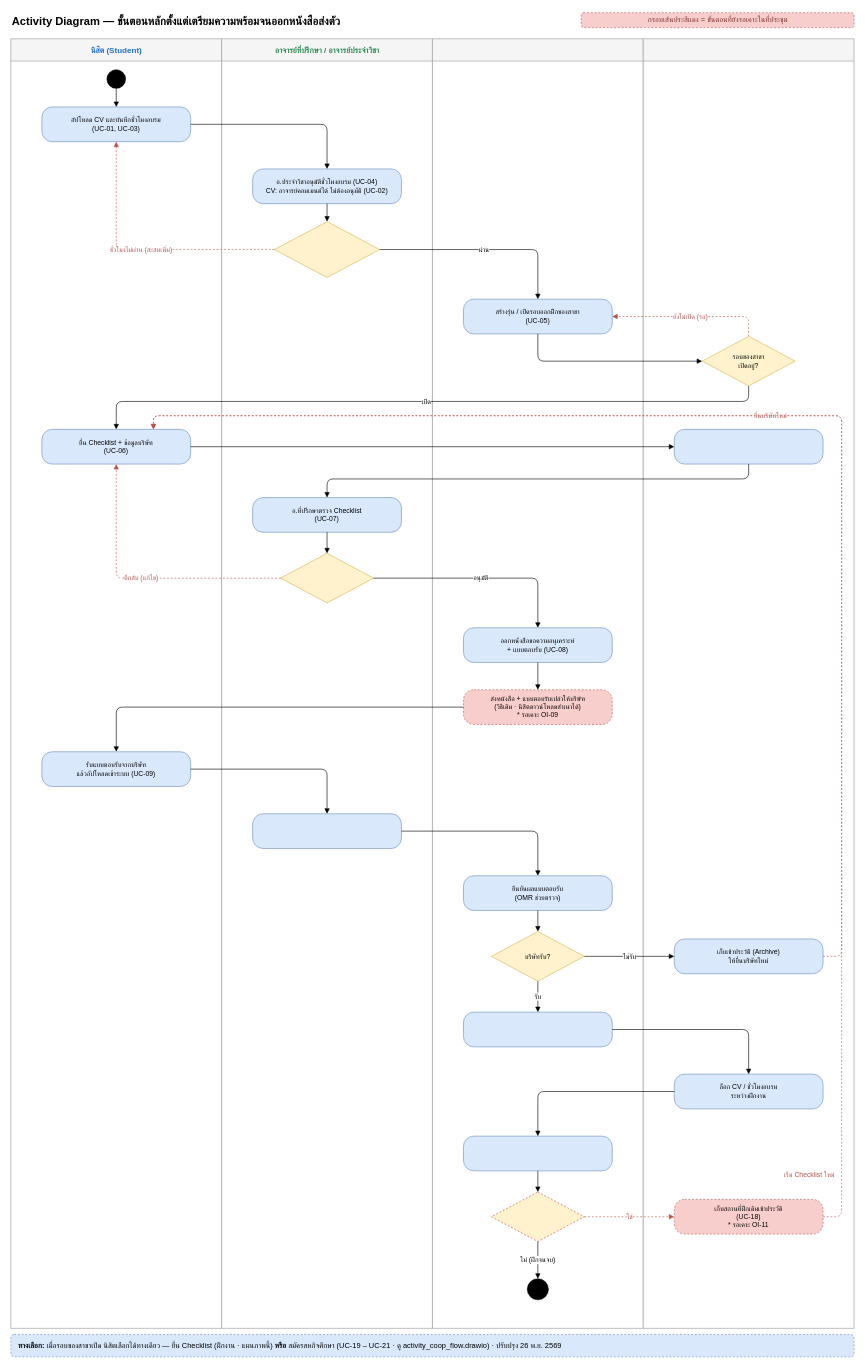
The diagram is 865 pixels wide and 1368 high, and some of its shapes have lost their labels. The shapes that lost their labels are listed below. From the top down, each one's box as (x1, y1, x2, y2) in pixels, then its label:
(274, 221, 380, 277): อัปโหลด CV + ชั่วโมงครบ? (Soft 12 / Hard 18)
(674, 429, 823, 464): ผูกรอบออกฝึกอัตโนมัติ
(280, 553, 374, 603): อนุมัติ?
(432, 38, 643, 1328): เจ้าหน้าที่ฝ่ายฝึกงาน (Staff)
(643, 38, 854, 1328): ระบบ (System)
(252, 813, 401, 848): อ.ที่ปรึกษาตรวจแบบตอบรับ (UC-10)
(463, 1012, 612, 1047): ออกหนังสือส่งตัว (UC-11)
(463, 1136, 612, 1171): Export Co-op 01 ส่งระบบกลาง (UC-14)
(491, 1191, 584, 1242): เรียกตัวกลับ / ยุติการฝึก?
